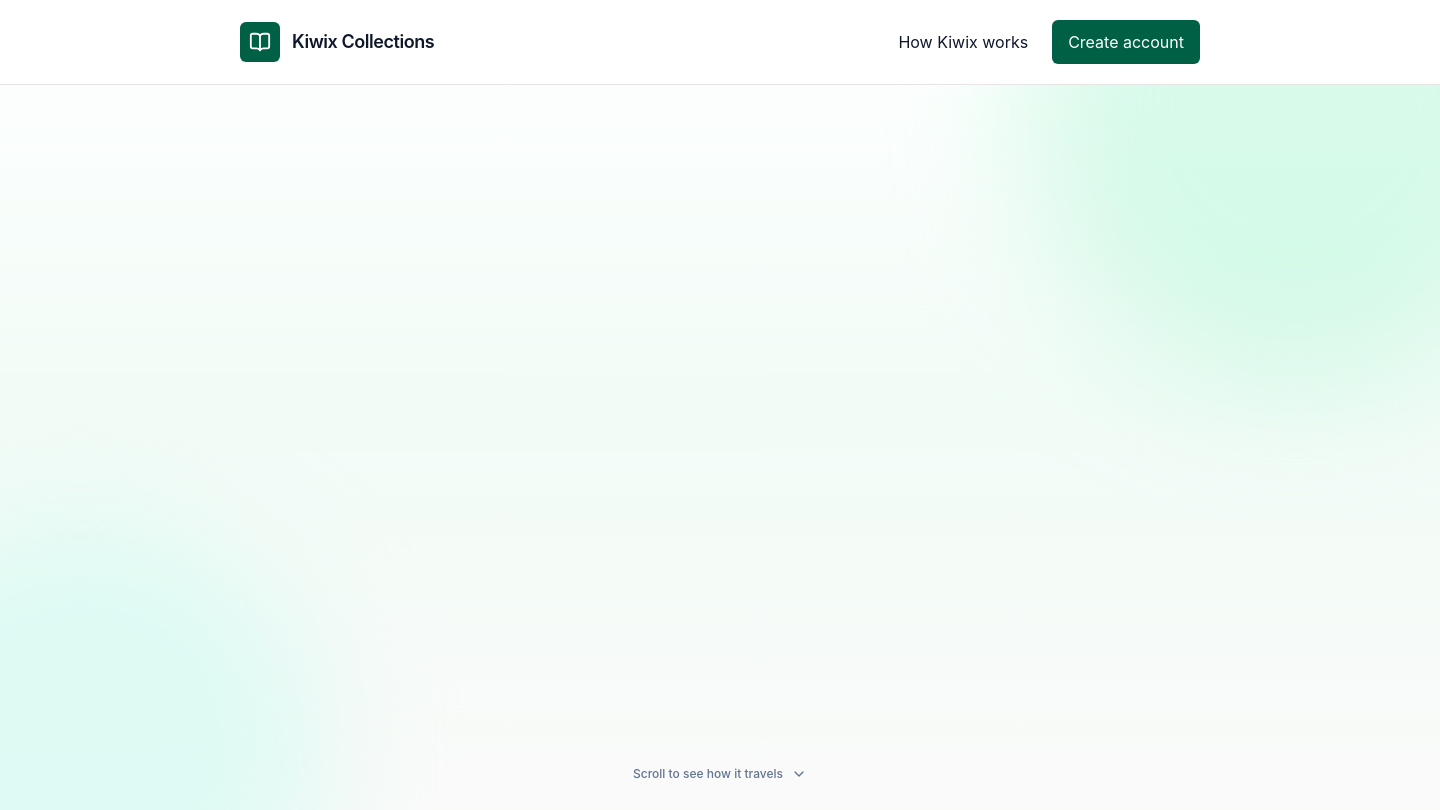
Test: the How Kiwix works page › is reached from the navbar and explains both sides
Step 1. Click the button "How Kiwix works" → (963, 42), box [882,20,1044,64]
(page scrolled)
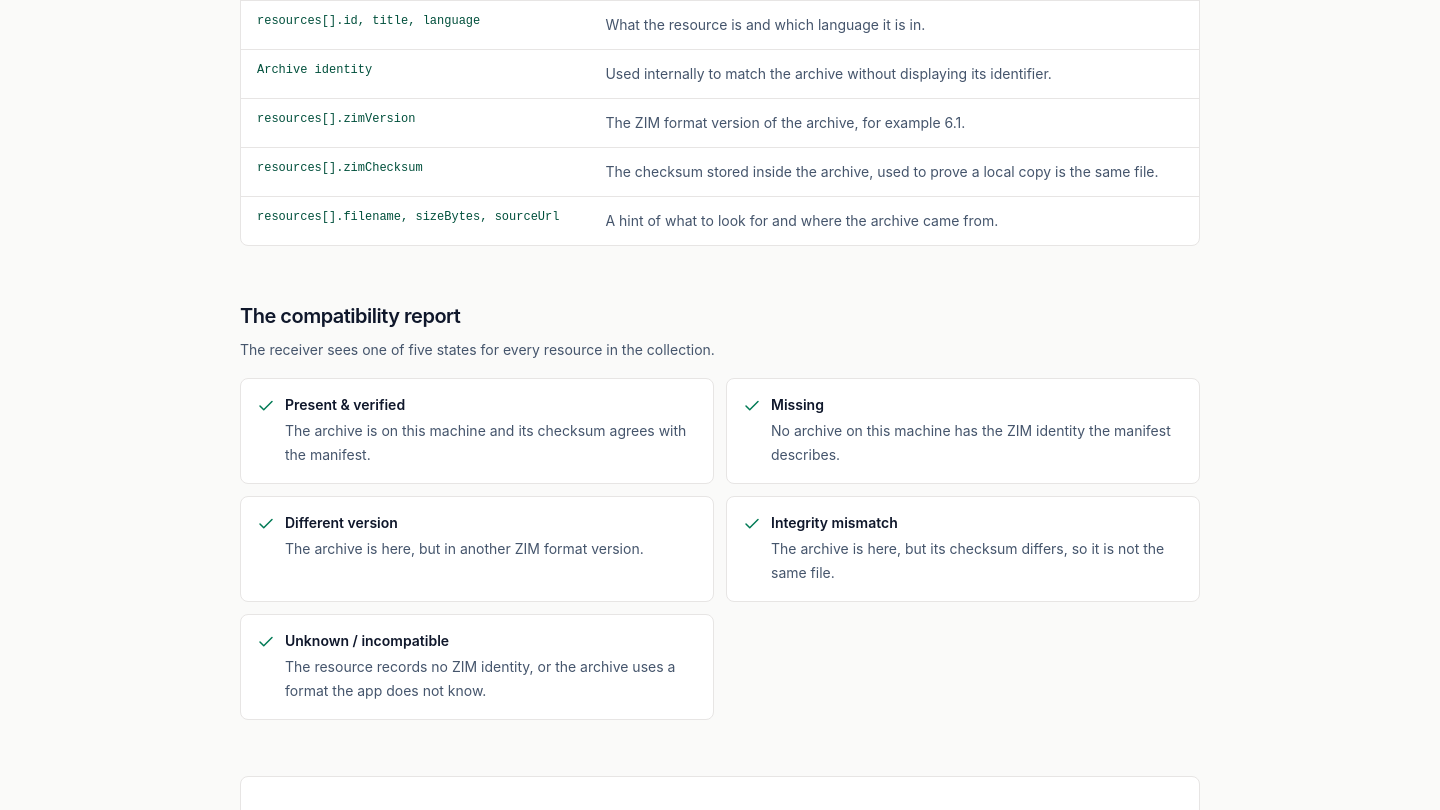
Expected: the text "resources[].zimChecksum" is shown, [241,148,589,196]
Expected: the text "Present & verified" is shown, [285,396,405,413]
